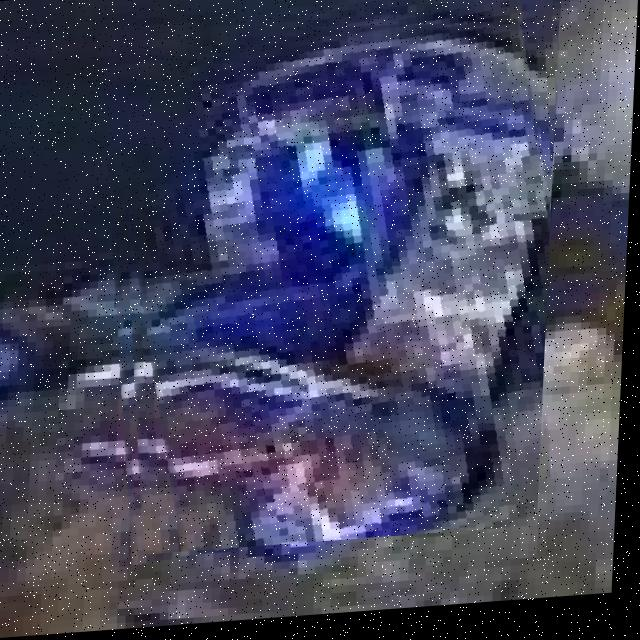can: (98, 8, 561, 559)
